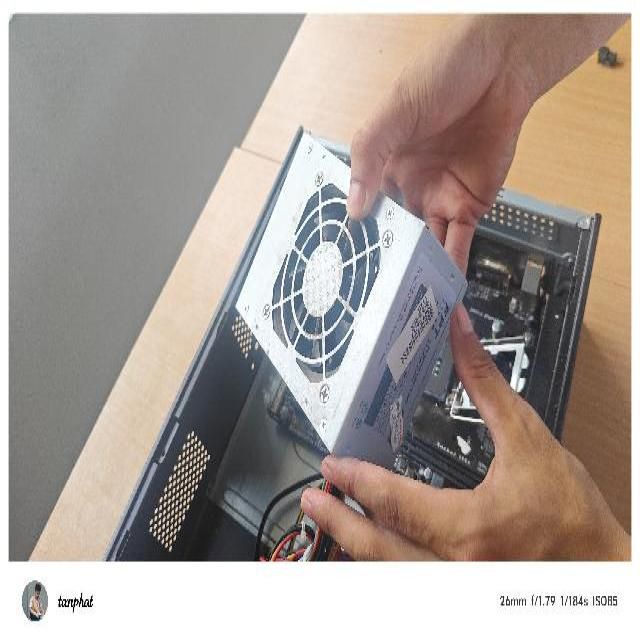PSU: (230, 126, 470, 484)
